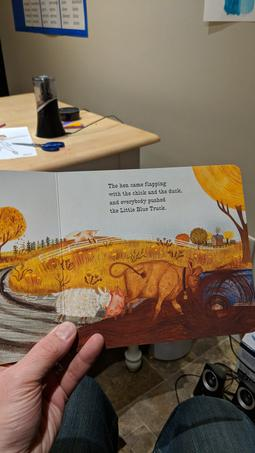text block: (102, 176, 183, 218)
